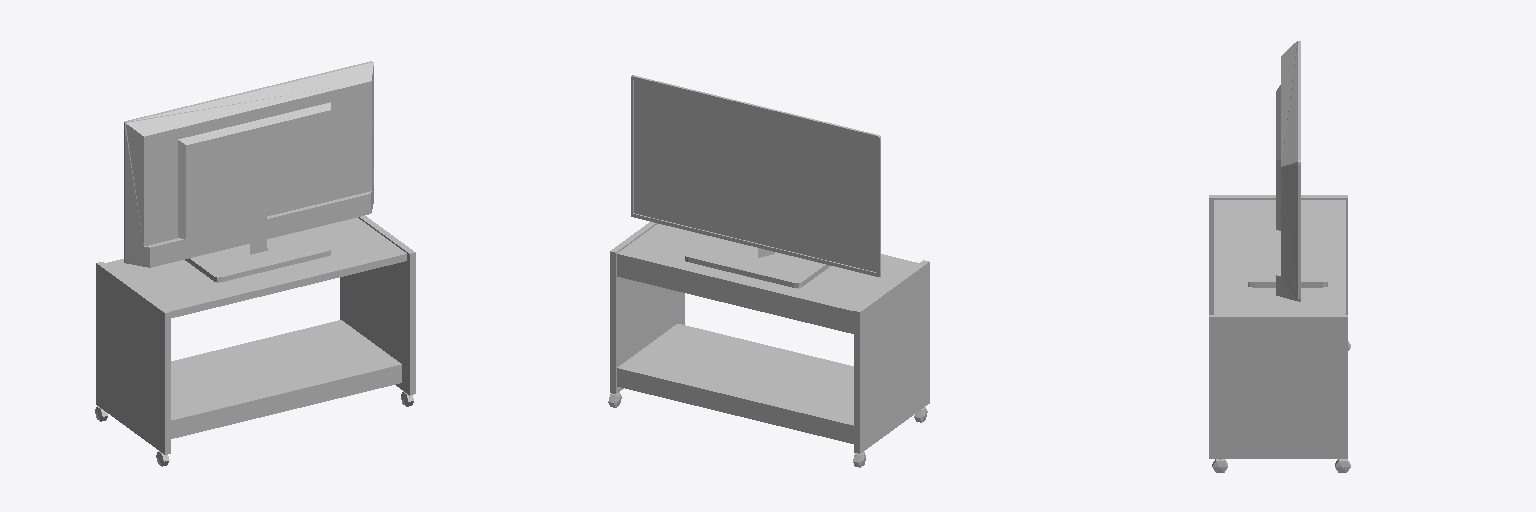
File: TVStand.obj
3 views of the same model, side by side, from view 1: azimuth 30°, elevation 25°; view 2: azimuth 150°, elevation 25°; view 3: azimuth 270°, elevation 25° (orthographic).
Parts seen in each view (by area): view 1: default; view 2: default; view 3: default.
Part boxes in pixels (x1,y1,x2,y2): default: (95, 61, 415, 466); default: (608, 75, 929, 467); default: (1209, 41, 1350, 472).
Size of the model in its own units: 169 by 199 by 81.52.